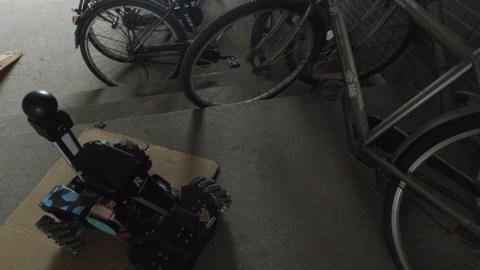chariot: (21, 84, 231, 266)
